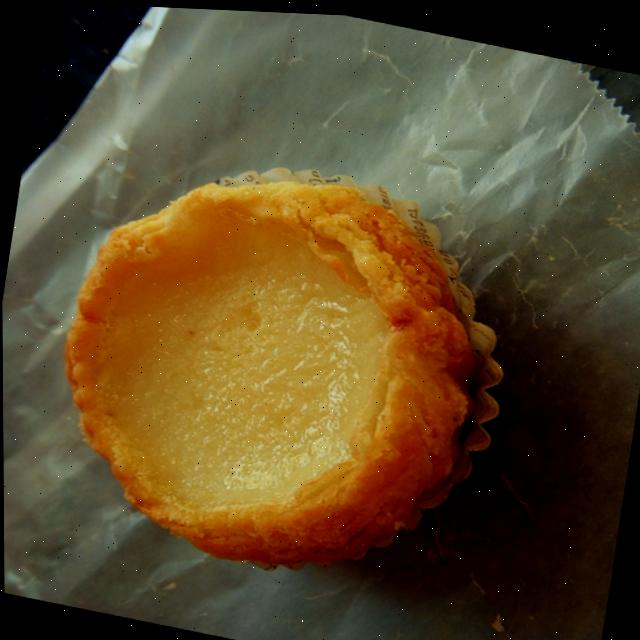炸货点心: (13, 113, 555, 613)
蛋糕甜品: (13, 113, 555, 613)
